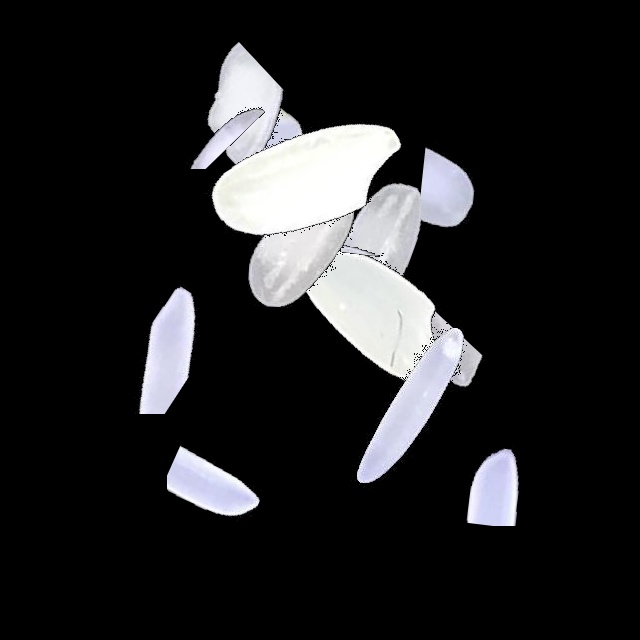Broken: (137, 4, 291, 254), (2, 276, 252, 414), (421, 68, 547, 318), (284, 310, 534, 433), (167, 363, 288, 613), (371, 415, 621, 526), (58, 60, 308, 169), (340, 86, 431, 336), (221, 429, 471, 504)
Full: (140, 24, 390, 274), (252, 120, 502, 370), (253, 187, 503, 437), (286, 281, 536, 531), (174, 125, 424, 375), (185, 52, 435, 302)
